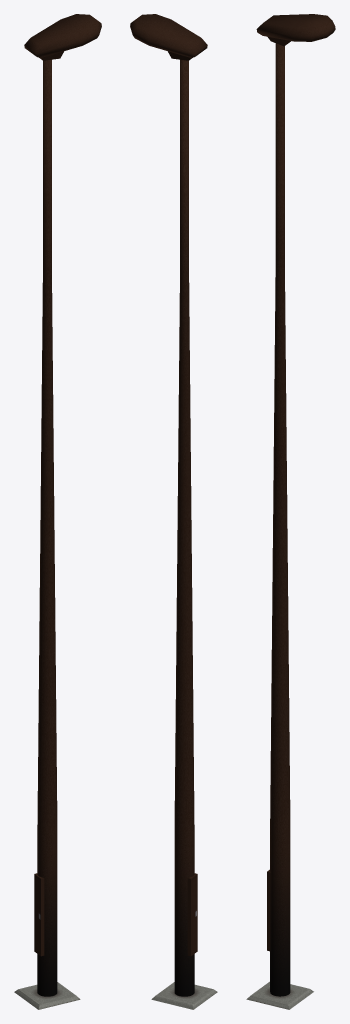
The model's file is Street_light.fbx.
3 views of the same model, side by side, from view 1: azimuth 30°, elevation 25°; view 2: azimuth 150°, elevation 25°; view 3: azimuth 330°, elevation 25° (orthographic).
Parts seen in each view (by area): view 1: street_light; view 2: street_light; view 3: street_light.
Part boxes in pixels (x1,y1,x2,y2): street_light: (14,14,101,1009); street_light: (130,14,217,1009); street_light: (246,14,335,1009).
Bounding box in the file's own units: 0.6808 × 8.73 × 0.4.
